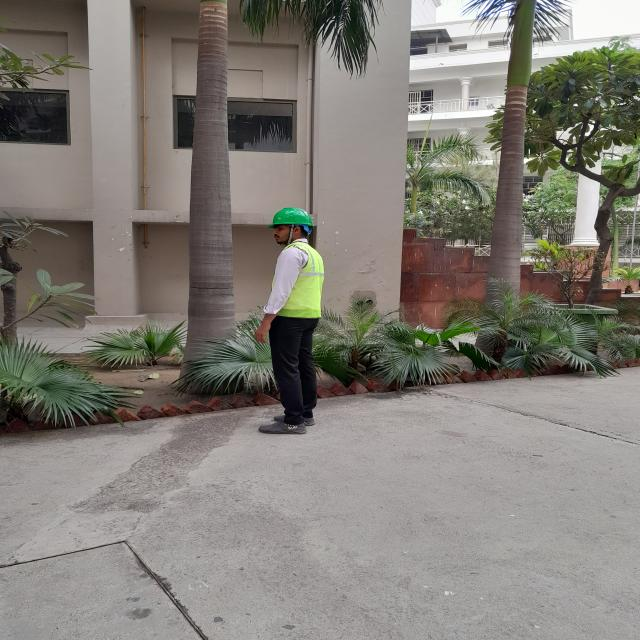safe: (256, 208, 324, 433)
